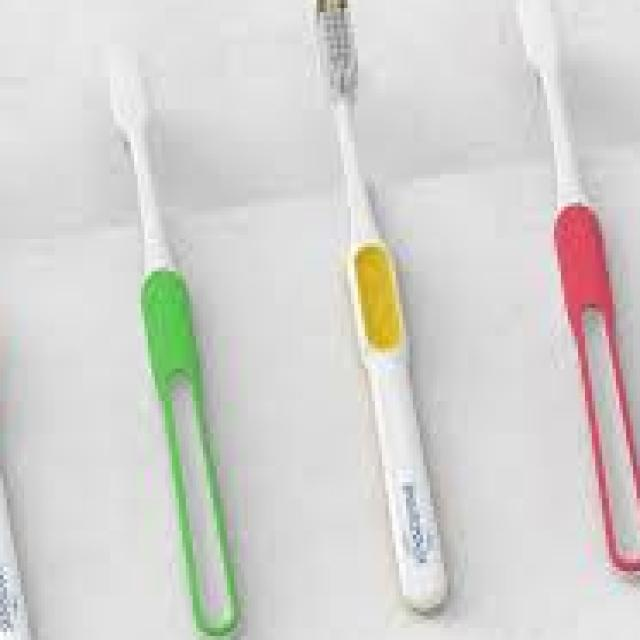organic: (294, 5, 491, 618), (91, 49, 270, 638), (506, 6, 640, 563)
